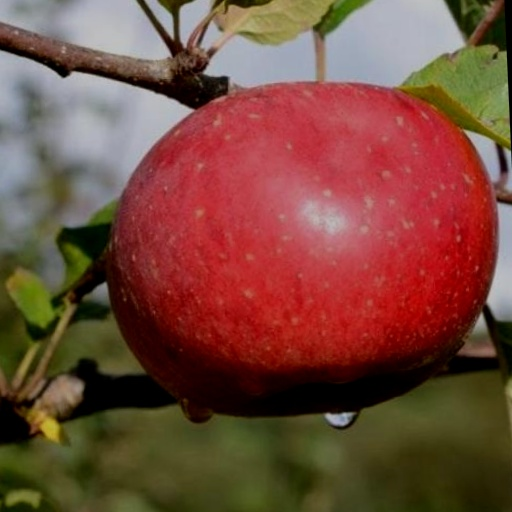fruit: (106, 83, 496, 419)
